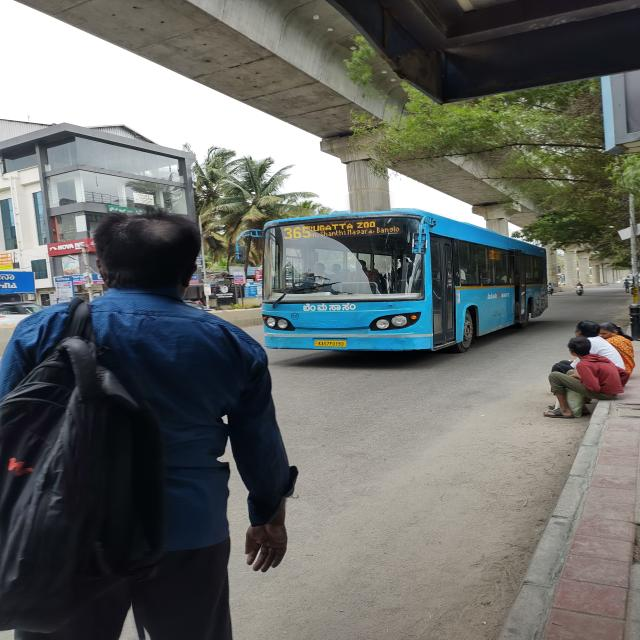bus: (231, 204, 556, 360)
display: (280, 219, 410, 239)
dnumber: (283, 226, 310, 238)
